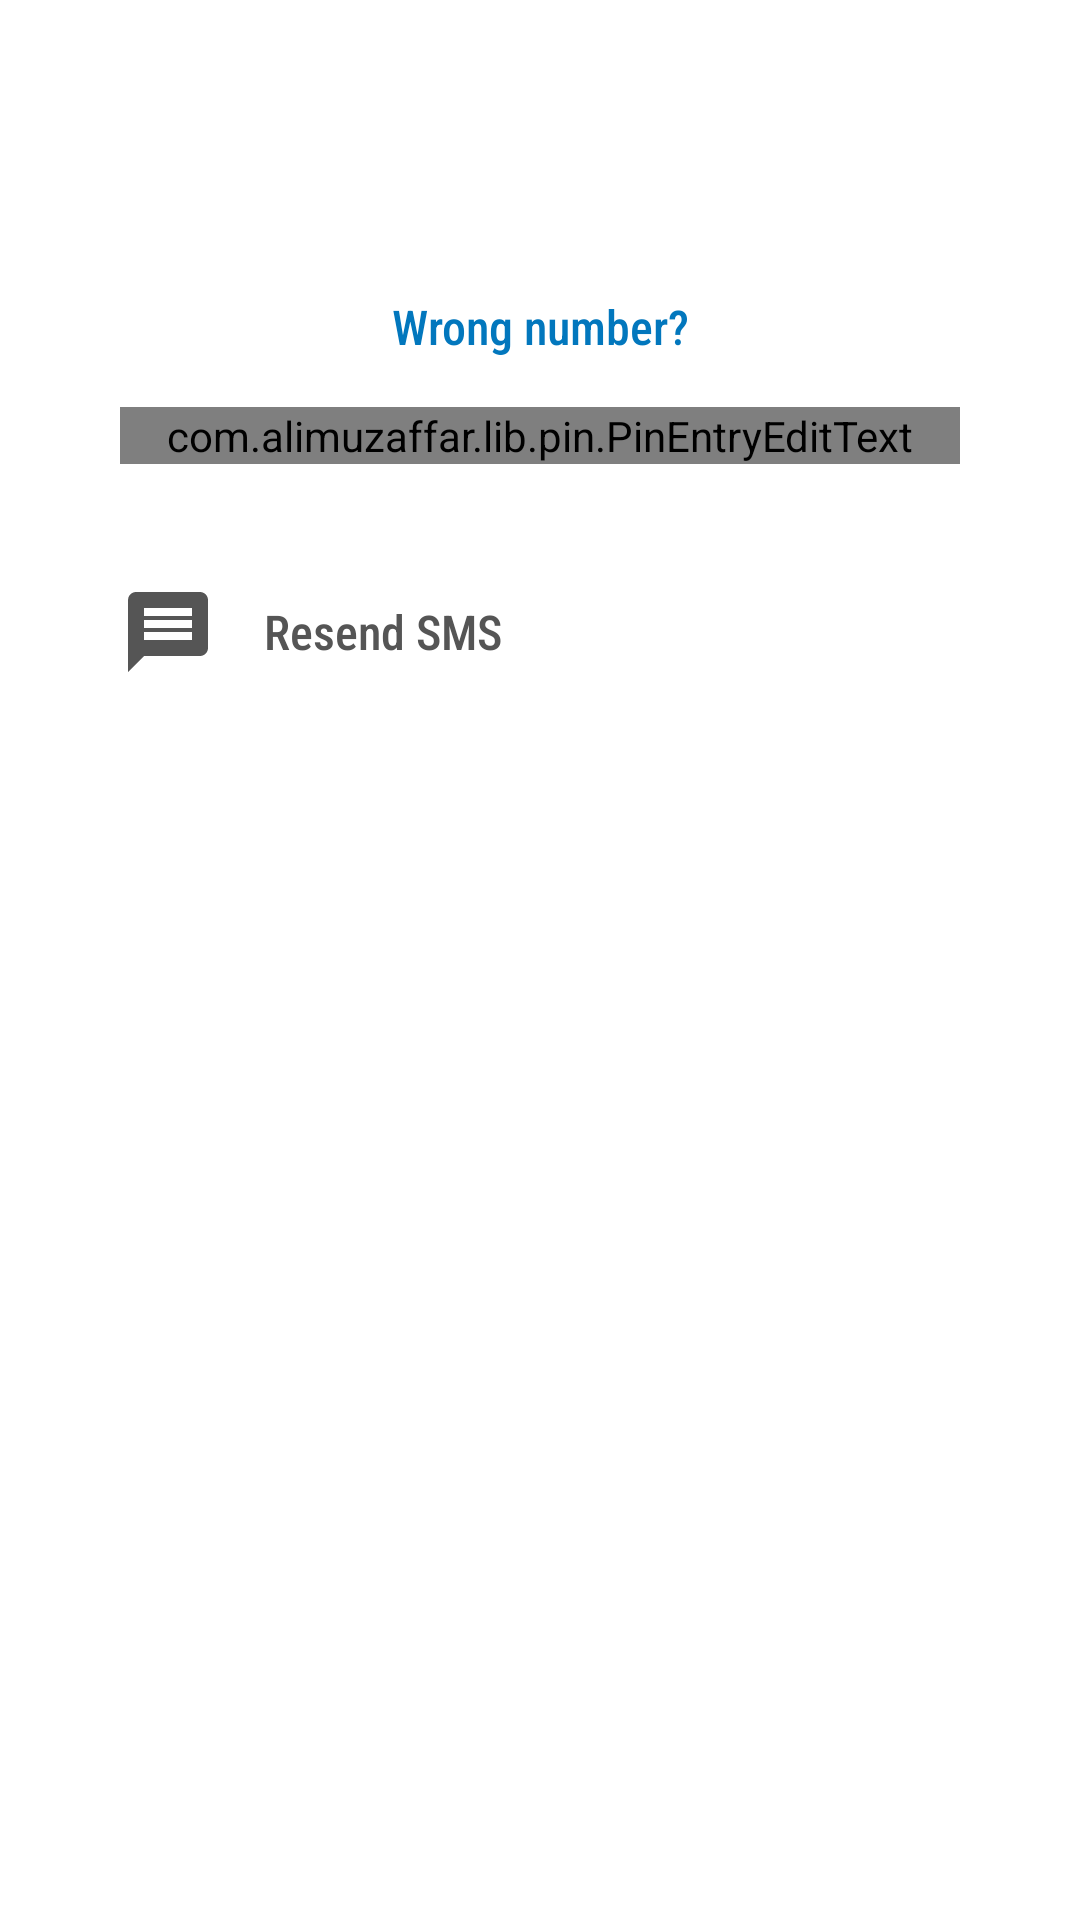

Icon click points for this 1080px×1920px phone screenshot, format point (x, y):
message non: point (168, 632)
